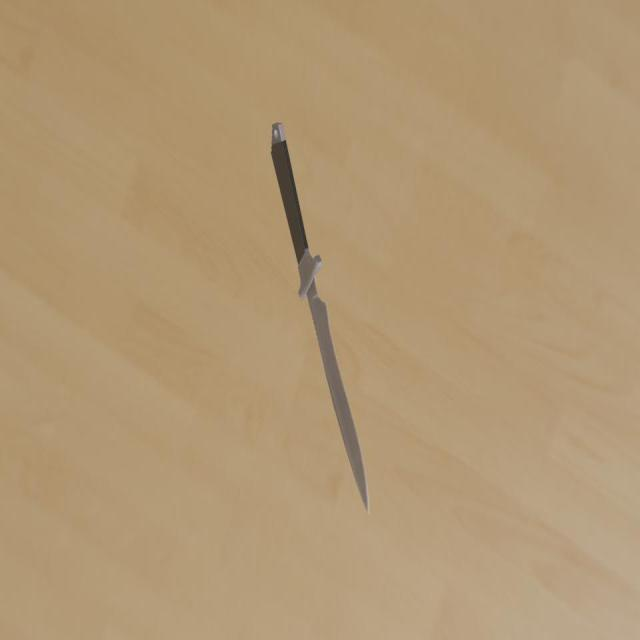knife: (270, 123, 309, 265)
